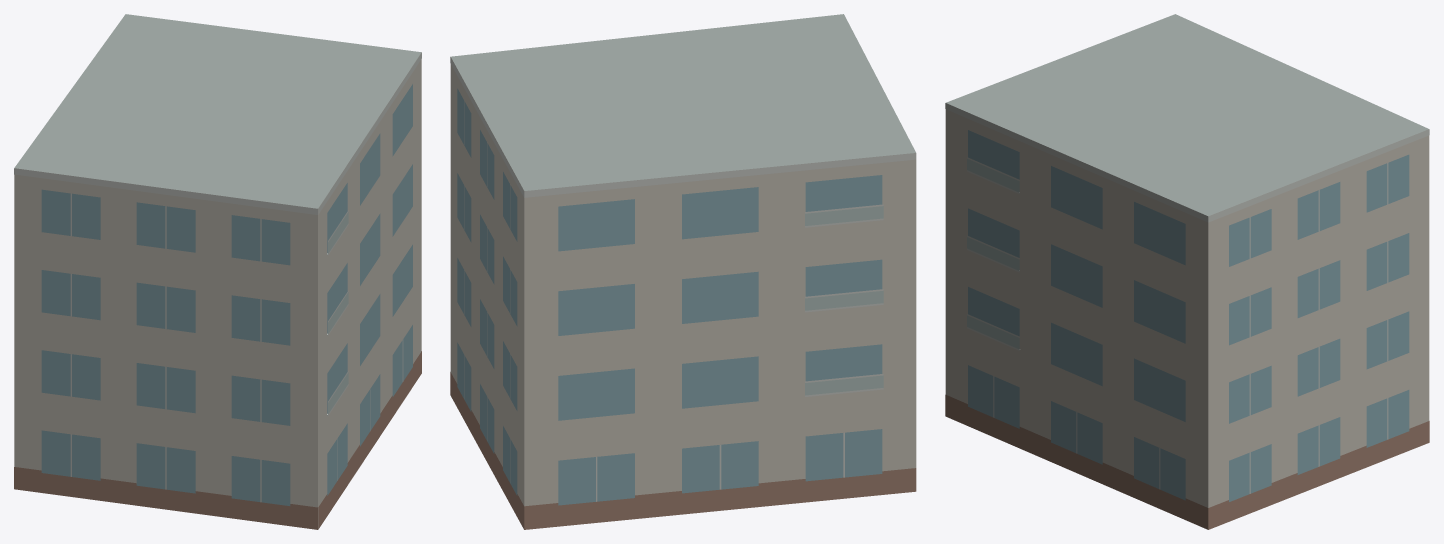
The model's file is survey-upis-32625105.glb.
3 views of the same model, side by side, from view 1: azimuth 30°, elevation 25°; view 2: azimuth 150°, elevation 25°; view 3: azimuth 270°, elevation 25° (orthographic). The views are drawn at different scales.
Parts seen in each view (by area): view 1: survey-upis-32625105.tmp; view 2: survey-upis-32625105.tmp; view 3: survey-upis-32625105.tmp.
Boxes of the visible parts, x1,y1,x2,y2 form: survey-upis-32625105.tmp: (14,14,421,529); survey-upis-32625105.tmp: (450,14,916,529); survey-upis-32625105.tmp: (945,14,1429,529).
Size of the model in its own units: 16.96 by 12.25 by 17.14.
